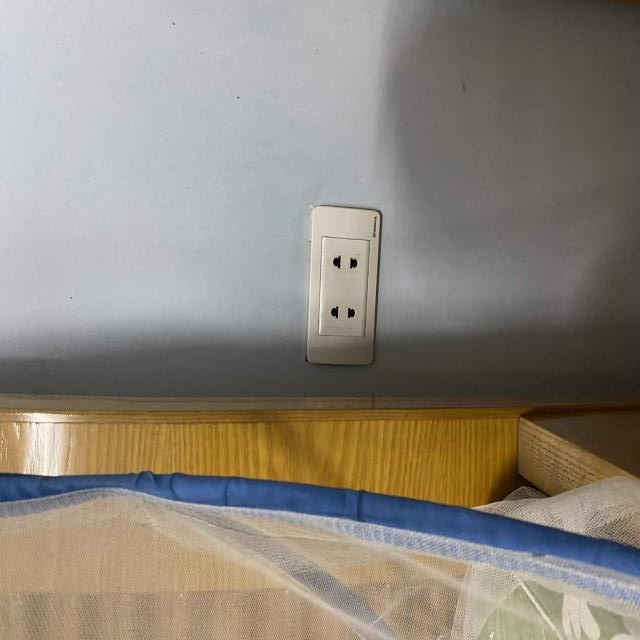outlet: (305, 205, 382, 367)
